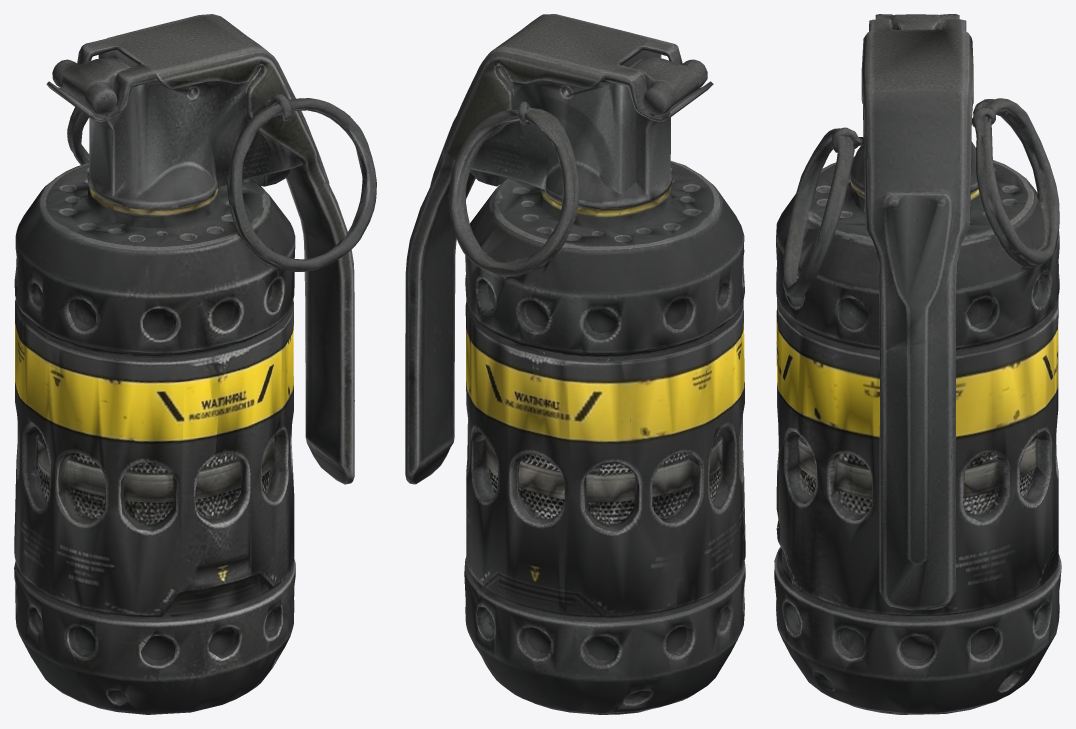
The model's file is bomba_flas.glb.
3 views of the same model, side by side, from view 1: azimuth 30°, elevation 25°; view 2: azimuth 150°, elevation 25°; view 3: azimuth 270°, elevation 25° (orthographic).
Parts seen in each view (by area): view 1: govde; view 2: govde; view 3: govde.
Part boxes in pixels (box(x1,y1,x2,y2)): govde: box(14, 14, 376, 714); govde: box(405, 14, 745, 714); govde: box(774, 14, 1061, 714).
Size of the model in its own units: 0.0728 by 0.1398 by 0.0579.
1 material, 1 textured.
